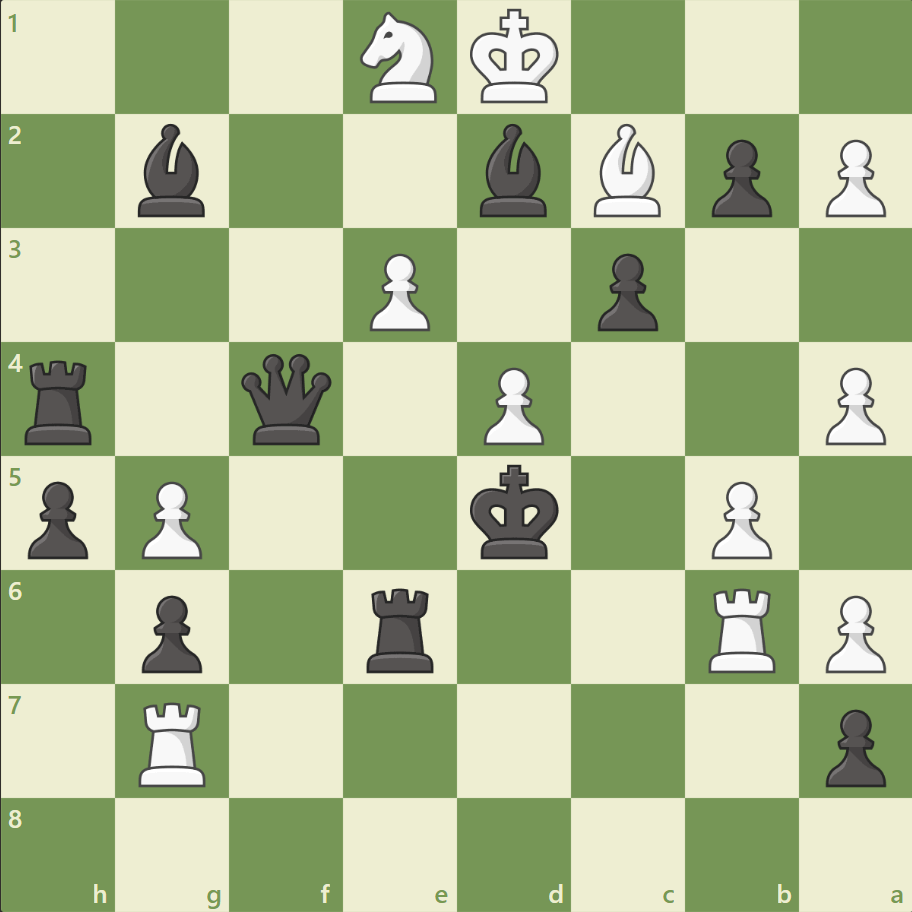B: (585, 120, 669, 222)
K: (465, 4, 565, 112)
N: (351, 7, 449, 110)
P: (701, 473, 776, 564), (133, 473, 208, 564), (474, 359, 549, 450), (815, 586, 889, 677), (815, 359, 889, 450), (361, 246, 435, 337), (815, 132, 889, 223)
R: (700, 579, 783, 676), (133, 693, 215, 790)
b: (471, 120, 555, 222), (131, 120, 215, 222)
k: (465, 458, 565, 566)
p: (133, 586, 208, 677), (20, 473, 95, 564), (701, 132, 776, 223), (815, 700, 889, 791), (588, 246, 662, 337)
q: (237, 349, 336, 449)
r: (19, 352, 102, 449), (360, 579, 442, 676)
